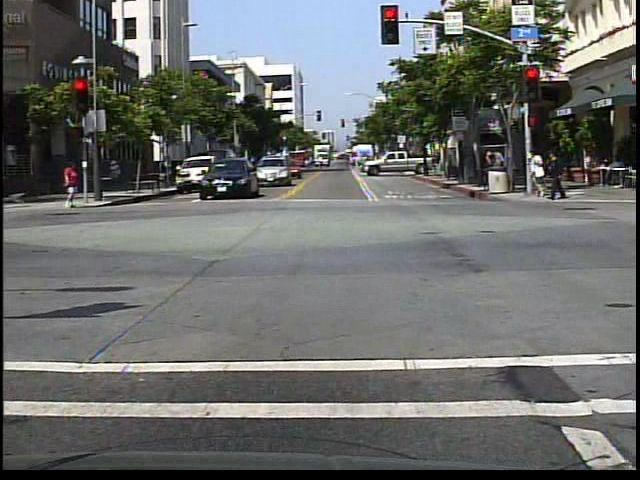person: (543, 146, 570, 204), (64, 159, 84, 212), (531, 145, 547, 201)
